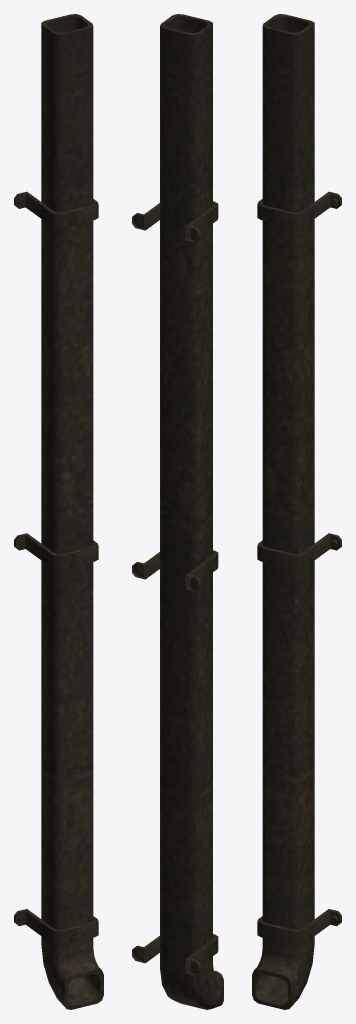
Rendered from rainwater_downpipe_hl_1_end.obj.
3 views of the same model, side by side, from view 1: azimuth 30°, elevation 25°; view 2: azimuth 150°, elevation 25°; view 3: azimuth 330°, elevation 25° (orthographic). The views are drawn at different scales.
Parts seen in each view (by area): view 1: rainwater_downpipe_hl_1_end; view 2: rainwater_downpipe_hl_1_end; view 3: rainwater_downpipe_hl_1_end.
Boxes of the visible parts, bbox=[...] form: rainwater_downpipe_hl_1_end: bbox=[14, 14, 103, 1009]; rainwater_downpipe_hl_1_end: bbox=[132, 14, 223, 1009]; rainwater_downpipe_hl_1_end: bbox=[252, 14, 341, 1009].
Bounding box in the file's own units: 0.2 × 2.84 × 0.2.
